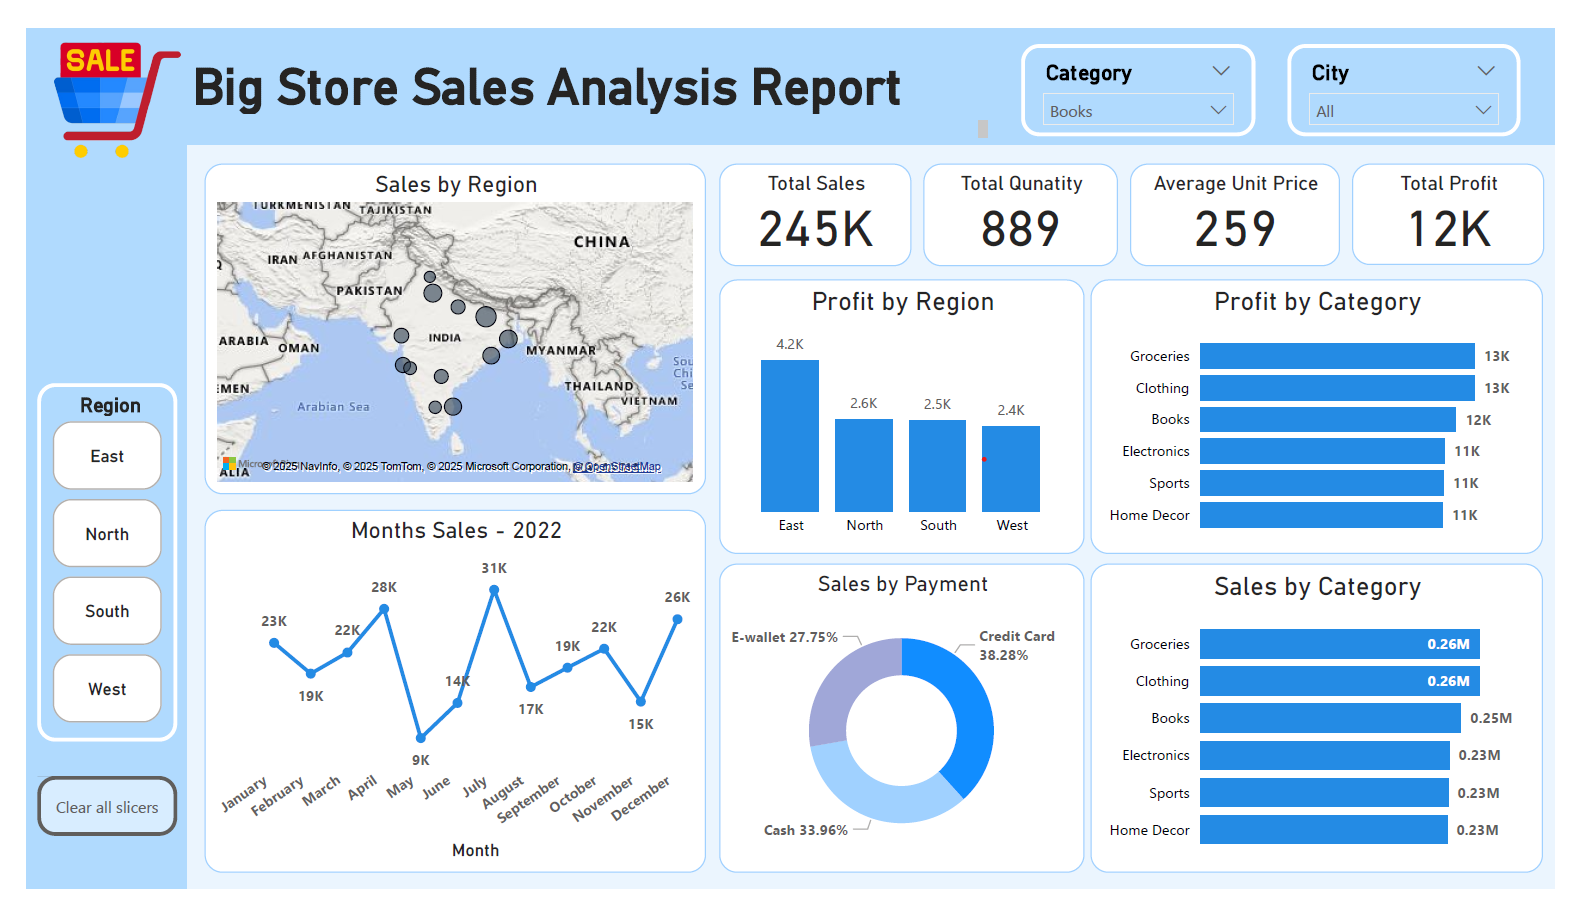

The page's visual inventory and layout, read from the dashboard file:
{"tool":"powerbi","page":{"name":"Duplicate of Page 1","canvas":[1280,720],"ordinal":1},"visuals":[{"type":"shape","box":[0,0,134.3,720],"z":0},{"type":"card","title":"Total Profit ","fields":{"Values":["Sum(big_store_sales_dataset.Gross Income)"]},"box":[1109.7,112.6,161.4,85.7],"z":1000},{"type":"barChart","title":"Sales by Category ","fields":{"Category":["big_store_sales_dataset.Product Line"],"Y":["Sum(big_store_sales_dataset.Total)"]},"box":[891.1,447.8,378.9,258.9],"z":2000},{"type":"card","title":"Total Sales ","fields":{"Values":["Sum(big_store_sales_dataset.Total)"]},"box":[580,112.9,161.4,85.7],"z":3000},{"type":"card","title":"Total Qunatity","fields":{"Values":["Sum(big_store_sales_dataset.Quantity)"]},"box":[751.4,112.9,162.9,85.7],"z":4000},{"type":"card","title":"Average Unit Price","fields":{"Values":["Avg(big_store_sales_dataset.Unit Price)"]},"box":[924.3,112.9,175.7,85.7],"z":5000},{"type":"donutChart","title":"Sales by Payment","fields":{"Category":["big_store_sales_dataset.Payment"],"Y":["Sum(big_store_sales_dataset.Total)"]},"box":[580,447.8,305.6,258.9],"z":6000},{"type":"columnChart","title":"Profit by Region ","fields":{"Category":["big_store_sales_dataset.Region"],"Y":["Sum(big_store_sales_dataset.Gross Income)"]},"box":[580,210,305.6,230],"z":7000},{"type":"barChart","title":"Profit by Category ","fields":{"Category":["big_store_sales_dataset.Product Line"],"Y":["Sum(big_store_sales_dataset.Gross Income)"]},"box":[891.4,210,378.6,230],"z":8000},{"type":"map","title":"Sales by Region ","fields":{"Category":["big_store_sales_dataset.City"],"Size":["Sum(big_store_sales_dataset.Total)"]},"box":[148.6,112.9,420,277.1],"z":9000},{"type":"lineChart","title":"Months Sales - 2022","fields":{"Category":["big_store_sales_dataset.Date.Variation.Date Hierarchy.Month"],"Y":["Sum(big_store_sales_dataset.Total)"]},"box":[148.6,402.9,420,304.3],"z":10000},{"type":"shape","box":[0,0,1280,96.7],"z":11000},{"type":"textbox","title":"Big Store Sales Analysis Report","box":[134.3,24.3,675.7,71.4],"z":12000},{"type":"image","box":[16.7,1.7,118.3,116.7],"z":13000},{"type":"slicer","fields":{"Values":["big_store_sales_dataset.City"]},"box":[1055.7,12.9,195.7,77.1],"z":14000},{"type":"actionButton","box":[8.6,625.7,117.1,50],"z":15000},{"type":"slicer","fields":{"Values":["big_store_sales_dataset.Product Line"]},"box":[832.9,12.9,195.7,77.1],"z":16000},{"type":"advancedSlicerVisual","fields":{"Values":["big_store_sales_dataset.Region"]},"box":[8.6,297.1,117.1,300],"z":17000}]}

Visuals, with their boxes in screenshot pixels (x1, y1, x2, y2), scaled from the page's 1280x720 canvas onto the 1581x911 screenshot:
shape: locate(0, 0, 166, 910)
"Total Profit " card: locate(1371, 142, 1570, 251)
"Sales by Category " barChart: locate(1101, 567, 1569, 894)
"Total Sales " card: locate(716, 143, 916, 251)
"Total Qunatity" card: locate(928, 143, 1129, 251)
"Average Unit Price" card: locate(1142, 143, 1359, 251)
"Sales by Payment" donutChart: locate(716, 567, 1094, 894)
"Profit by Region " columnChart: locate(716, 266, 1094, 557)
"Profit by Category " barChart: locate(1101, 266, 1569, 557)
"Sales by Region " map: locate(184, 143, 702, 493)
"Months Sales - 2022" lineChart: locate(184, 510, 702, 895)
shape: locate(0, 0, 1580, 122)
"Big Store Sales Analysis Report" textbox: locate(166, 31, 1000, 121)
image: locate(21, 2, 167, 150)
slicer - big_store_sales_dataset.City: locate(1304, 16, 1546, 114)
actionButton: locate(11, 792, 155, 855)
slicer - big_store_sales_dataset.Product Line: locate(1029, 16, 1270, 114)
advancedSlicerVisual - big_store_sales_dataset.Region: locate(11, 376, 155, 755)
